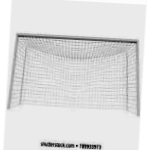goals: (7, 32, 141, 117)
